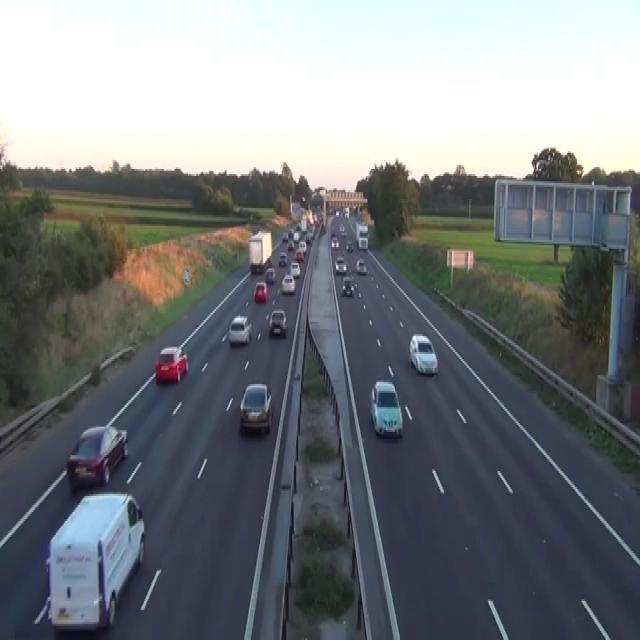Car: (66, 423, 128, 489), (370, 379, 402, 437), (239, 382, 273, 434), (155, 345, 188, 382), (409, 333, 438, 375), (228, 315, 252, 345), (268, 309, 287, 336), (253, 281, 268, 302), (281, 274, 295, 293), (341, 276, 354, 295), (334, 256, 346, 274), (264, 266, 275, 284), (289, 260, 300, 278), (355, 258, 366, 274), (278, 250, 287, 266), (294, 247, 304, 261), (330, 235, 339, 249), (358, 236, 367, 249), (298, 240, 306, 254), (346, 238, 353, 251), (339, 224, 346, 236), (287, 240, 294, 251), (282, 231, 288, 242), (293, 231, 299, 242), (314, 218, 320, 228), (305, 233, 311, 243), (321, 224, 326, 233), (330, 231, 336, 238), (340, 230, 346, 237), (288, 230, 293, 238), (335, 210, 339, 217)
Truck: (44, 491, 145, 629), (248, 229, 272, 274), (355, 222, 368, 249), (300, 217, 307, 233)
